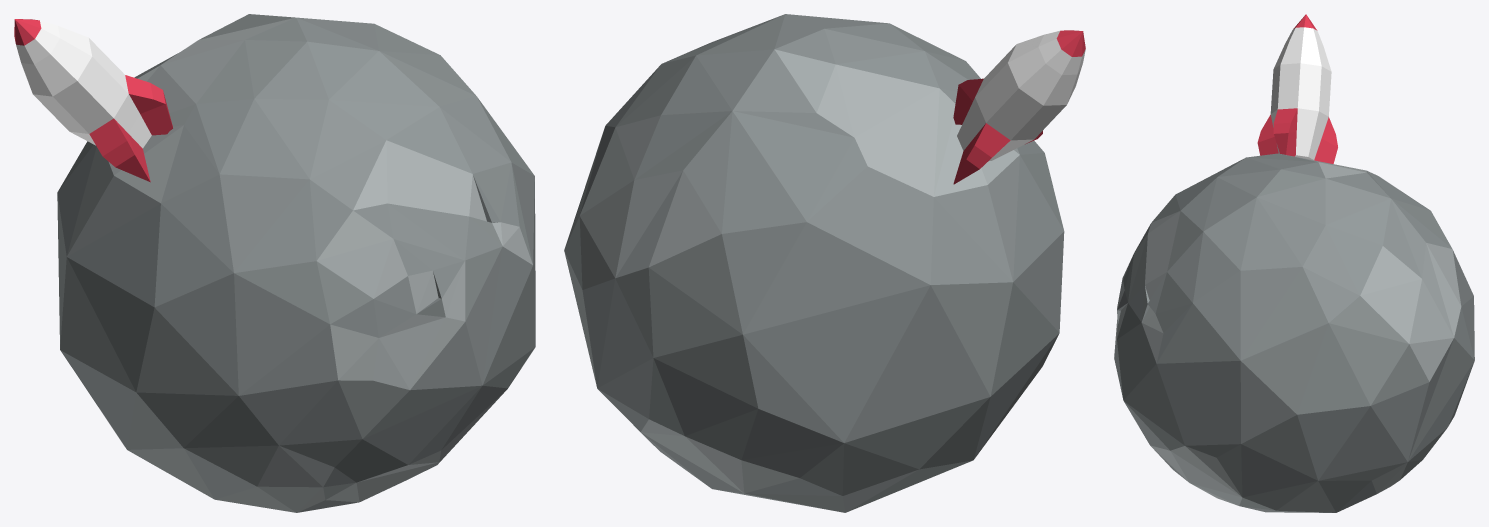
Rendered from moon.glb.
3 renders of one model, left to right at view 1: azimuth 30°, elevation 25°; view 2: azimuth 150°, elevation 25°; view 3: azimuth 270°, elevation 25°, orthographic. The views are drawn at different scales.
Visible parts, largest first — view 1: Cylinder; view 2: Cylinder; view 3: Cylinder.
Part boxes in pixels (x1=…): Cylinder: x1=14, y1=14, x2=535, y2=512; Cylinder: x1=564, y1=14, x2=1085, y2=512; Cylinder: x1=1114, y1=14, x2=1474, y2=512.
Bounding box in the file's own units: 1.29 × 1.32 × 1.11.
3 materials, 1 textured.
